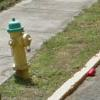Hydrant: (2, 12, 38, 98)
